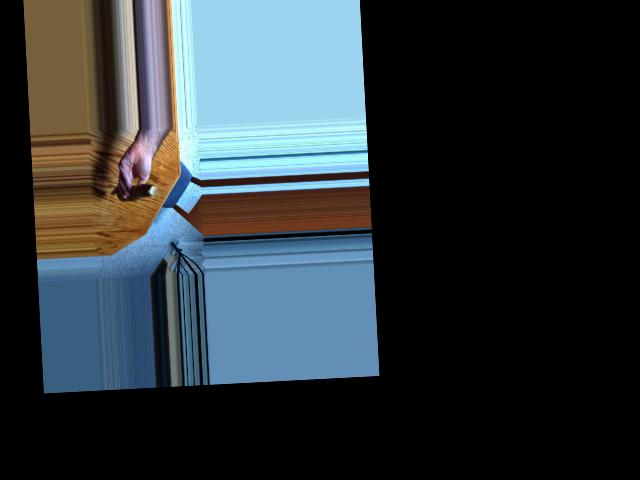sweet_potato: (118, 182, 151, 202)
